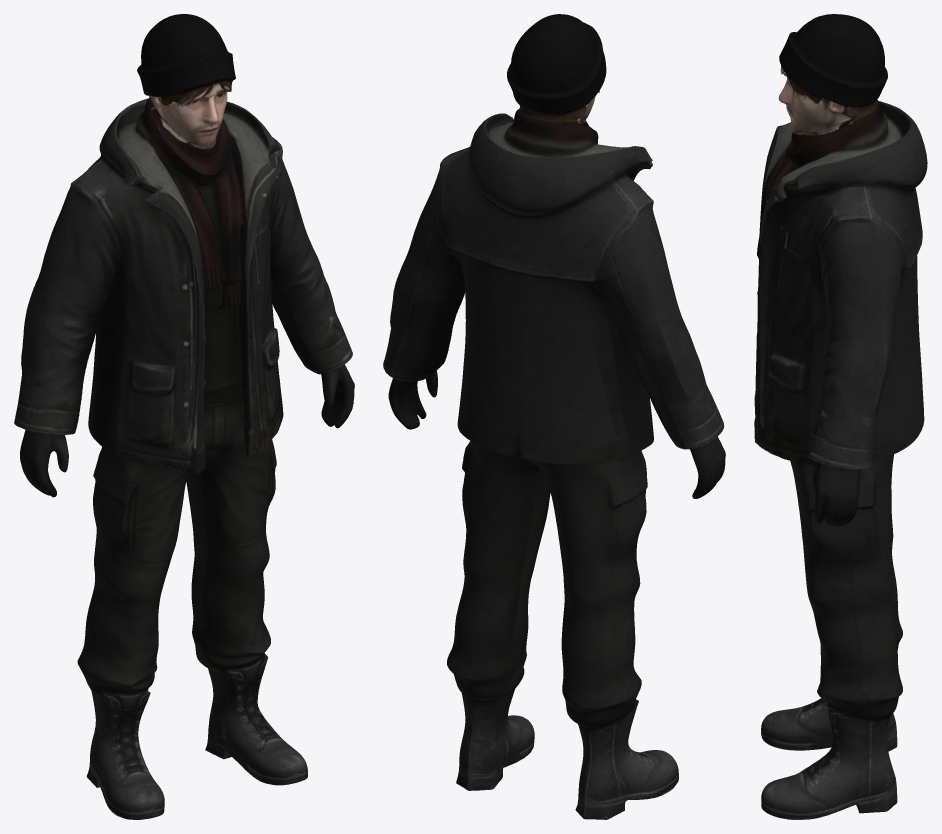
The model's file is bryan_original.glb.
3 views of the same model, side by side, from view 1: azimuth 30°, elevation 25°; view 2: azimuth 150°, elevation 25°; view 3: azimuth 270°, elevation 25° (orthographic).
Bounding box in the file's own units: 0.8586 × 1.9 × 0.3933.
1 material, 1 textured.
